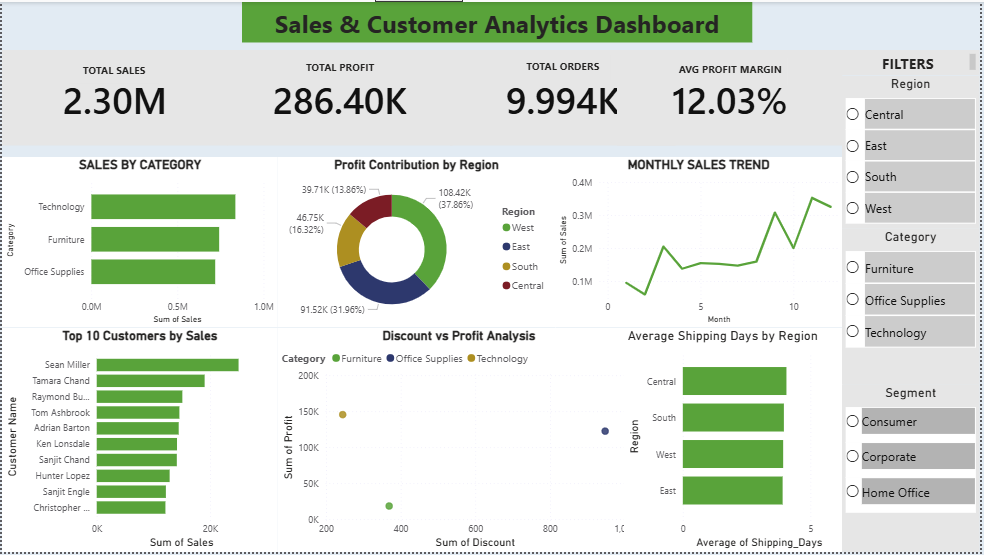

The dashboard page shown, as its layout file describes it:
{"tool":"powerbi","page":{"name":"Sales Dashboard","canvas":[1280,720],"ordinal":0},"visuals":[{"type":"cardVisual","title":"Total Sales","fields":{"Data":["Sum(cleaned_superstore_data.Sales)"]},"box":[0,63.4,295.2,125.3],"z":0},{"type":"textbox","box":[87.8,74.9,118.1,31.7],"z":1000},{"type":"cardVisual","title":"Total Sales","fields":{"Data":["Sum(cleaned_superstore_data.Profit)"]},"box":[295.2,63.4,295.2,125.3],"z":2000},{"type":"cardVisual","title":"Total Sales","fields":{"Data":["CountNonNull(cleaned_superstore_data.Order ID)"]},"box":[586.1,63.4,295.2,125.3],"z":3000},{"type":"textbox","box":[381.6,70.6,121,36],"z":4000},{"type":"textbox","box":[671,69.1,125.3,33.1],"z":5000},{"type":"cardVisual","title":"Total Sales","fields":{"Data":["Avg(cleaned_superstore_data.Profit_Margin)"]},"box":[805,63.4,295.2,125.3],"z":6000},{"type":"textbox","box":[878.4,73.4,149.8,34.6],"z":7000},{"type":"clusteredBarChart","title":"SALES BY CATEGORY","fields":{"Category":["cleaned_superstore_data.Category"],"Y":["Sum(cleaned_superstore_data.Sales)"]},"box":[0,203,361.4,223.2],"z":8000},{"type":"donutChart","title":"Profit Contribution by Region","fields":{"Category":["cleaned_superstore_data.Region"],"Y":["Sum(cleaned_superstore_data.Profit)"]},"box":[361.4,203,362.9,223.2],"z":9000},{"type":"lineChart","title":"MONTHLY SALES TREND","fields":{"Category":["cleaned_superstore_data.Month"],"Y":["Sum(cleaned_superstore_data.Sales)"]},"box":[724.3,203,375.8,223.2],"z":10000},{"type":"clusteredBarChart","title":"Top 10 Customers by Sales","fields":{"Y":["Sum(cleaned_superstore_data.Sales)"],"Category":["cleaned_superstore_data.Customer Name"]},"box":[0,426.2,361.4,293.8],"z":11000},{"type":"scatterChart","title":"Discount vs Profit Analysis","fields":{"X":["Sum(cleaned_superstore_data.Discount)"],"Y":["Sum(cleaned_superstore_data.Profit)"],"Series":["cleaned_superstore_data.Category"]},"box":[361.4,426.2,473.8,293.8],"z":12000},{"type":"barChart","title":"Average Shipping Days by Region","fields":{"Y":["Avg(cleaned_superstore_data.Shipping_Days)"],"Category":["cleaned_superstore_data.Region"]},"box":[813.6,426.2,286.6,293.8],"z":13000},{"type":"listSlicer","fields":{"Values":["cleaned_superstore_data.Region"]},"box":[1100.2,96.5,180,200.2],"z":14000},{"type":"listSlicer","fields":{"Values":["cleaned_superstore_data.Segment"]},"box":[1100.2,501.1,180,218.9],"z":15000},{"type":"listSlicer","fields":{"Values":["cleaned_superstore_data.Category"]},"box":[1100.2,296.6,180,204.5],"z":16000},{"type":"textbox","box":[313.9,0,668.2,53.3],"z":17000},{"type":"textbox","box":[1100.2,63.4,180,33.1],"z":18000}]}

Visuals, with their boxes in screenshot pixels (x1, y1, x2, y2), scaled from the page's 1280x720 canvas onto the 984x555 screenshot:
"Total Sales" cardVisual: 0/49/227/145
textbox: 67/58/158/82
"Total Sales" cardVisual: 227/49/454/145
"Total Sales" cardVisual: 451/49/677/145
textbox: 293/54/386/82
textbox: 516/53/612/79
"Total Sales" cardVisual: 619/49/846/145
textbox: 675/57/790/83
"SALES BY CATEGORY" clusteredBarChart: 0/156/278/329
"Profit Contribution by Region" donutChart: 278/156/557/329
"MONTHLY SALES TREND" lineChart: 557/156/846/329
"Top 10 Customers by Sales" clusteredBarChart: 0/329/278/554
"Discount vs Profit Analysis" scatterChart: 278/329/642/554
"Average Shipping Days by Region" barChart: 625/329/846/554
listSlicer - cleaned_superstore_data.Region: 846/74/983/229
listSlicer - cleaned_superstore_data.Segment: 846/386/983/554
listSlicer - cleaned_superstore_data.Category: 846/229/983/386
textbox: 241/0/755/41
textbox: 846/49/983/74
